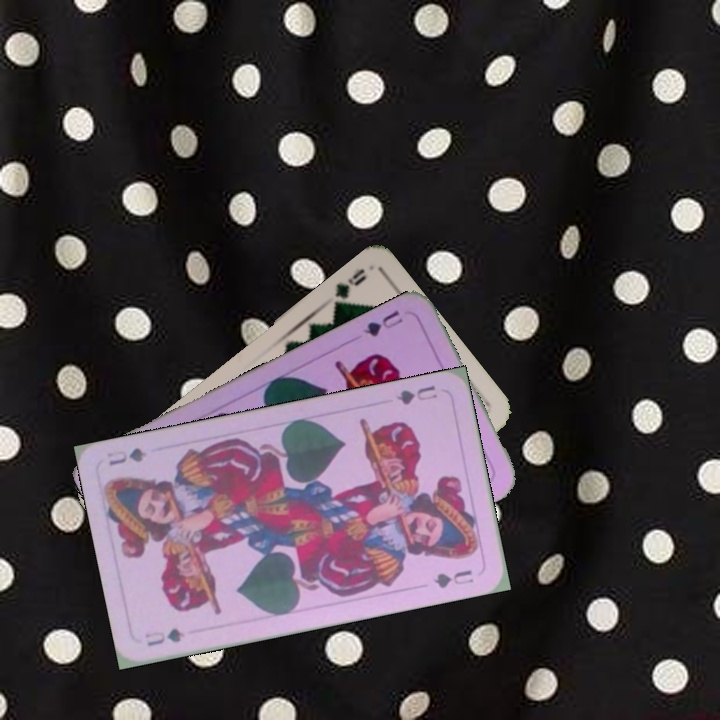G9: (329, 264, 369, 315)
GU: (359, 306, 406, 340), (392, 381, 440, 408), (141, 624, 187, 649)
